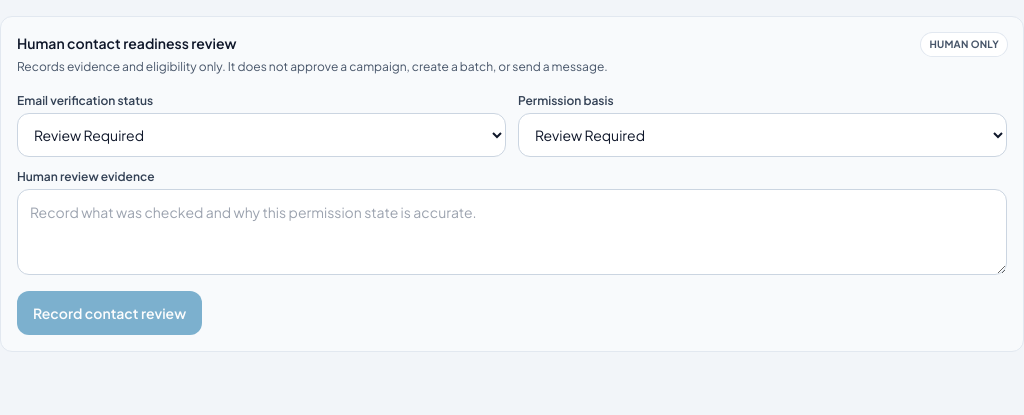
Test case: ProspectContactabilityReview › records only the human review and confirms that no message was sent
Select "Valid" in the dropdown labelled "Email verification status" at [262, 135], box left=17, top=113, right=506, bottom=157
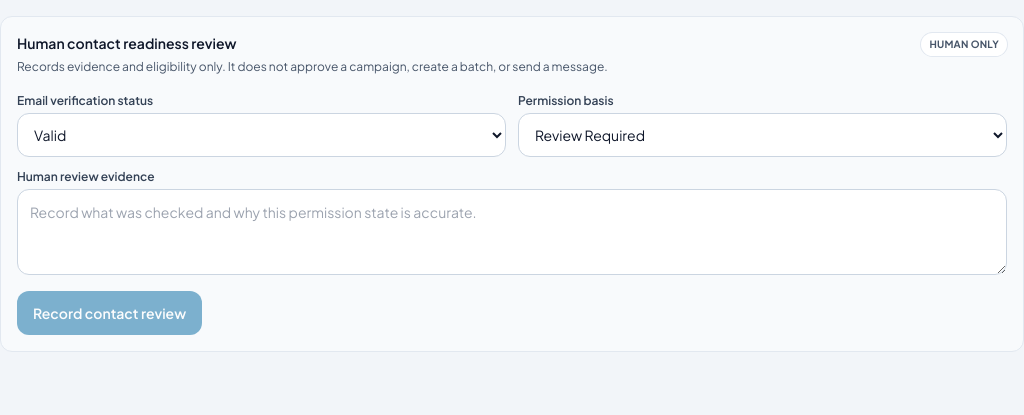
Select "Legitimate Interest Recorded" in the dropdown labelled "Permission basis" at [762, 135], box left=518, top=113, right=1007, bottom=157
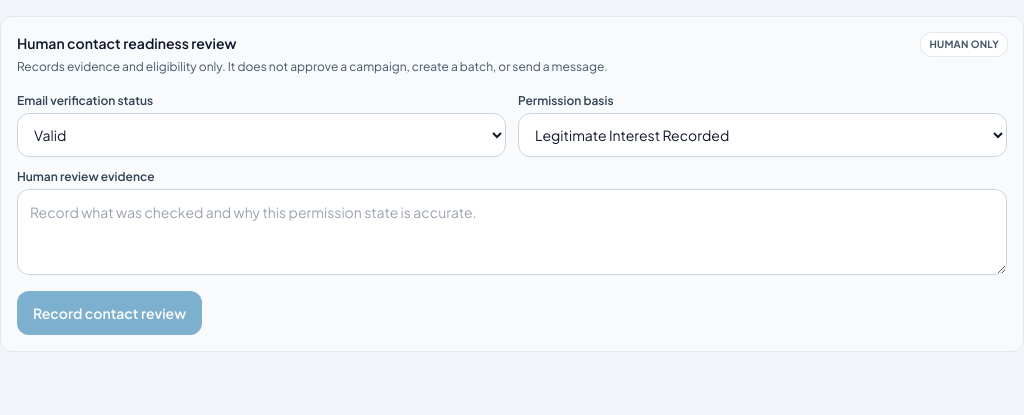
Replace the text in the text box labelled "Human review evidence" with "  Public contact page and venue role reviewed.  " at [512, 232], box left=17, top=189, right=1007, bottom=275
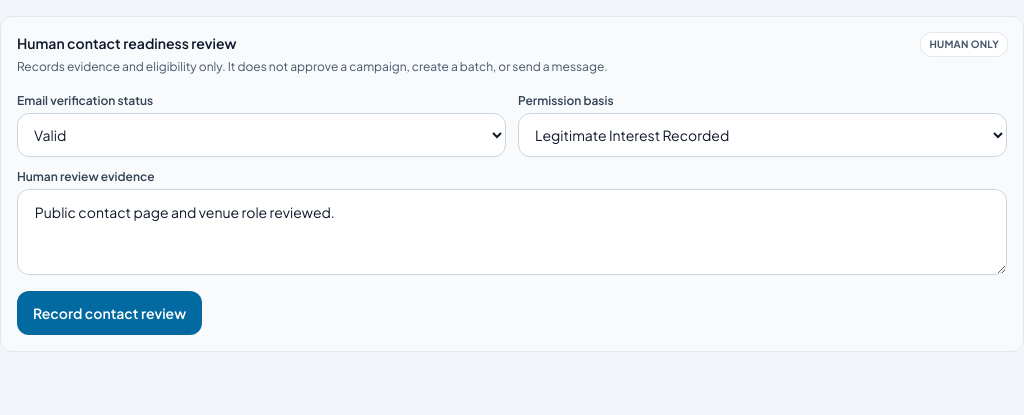
Click the button "Record contact review" at [110, 313], box left=17, top=291, right=202, bottom=335
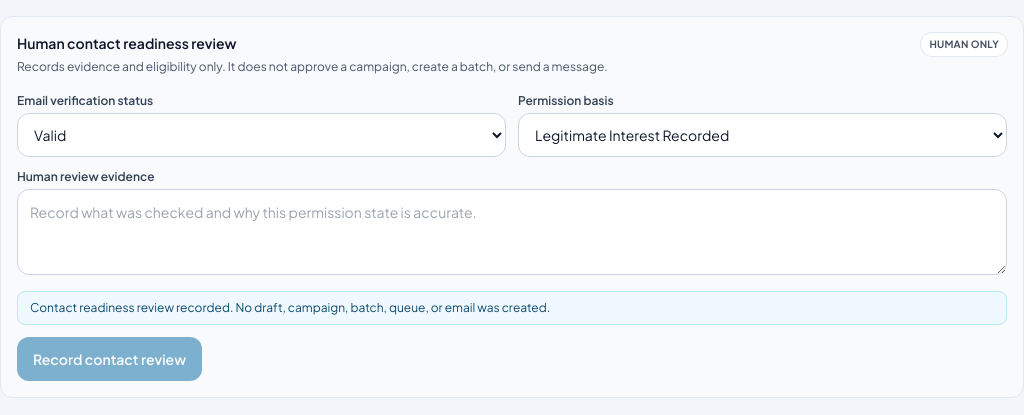
expect the message shows "Contact readiness review recorded. No draft, campaign, batch, queue, or email was created.": met, box left=30, top=300, right=550, bottom=315
